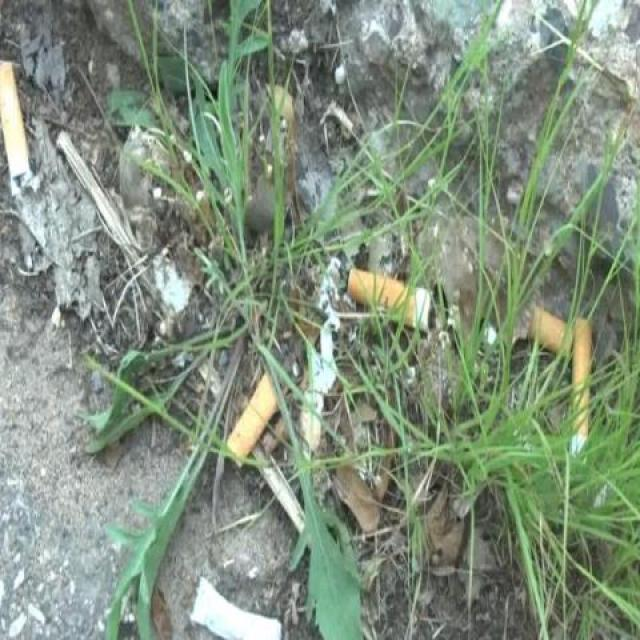non-organic waste: (217, 353, 295, 468), (342, 262, 447, 345), (184, 572, 292, 640), (564, 307, 600, 476), (0, 44, 40, 189), (526, 298, 598, 370)
